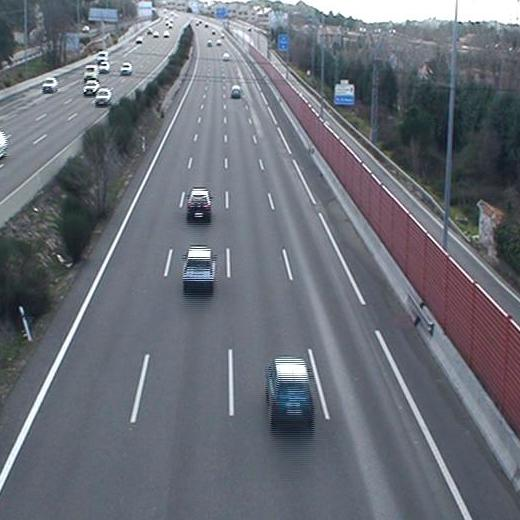car: (268, 359, 315, 421), (181, 246, 216, 287), (187, 187, 212, 221), (230, 86, 242, 98)
